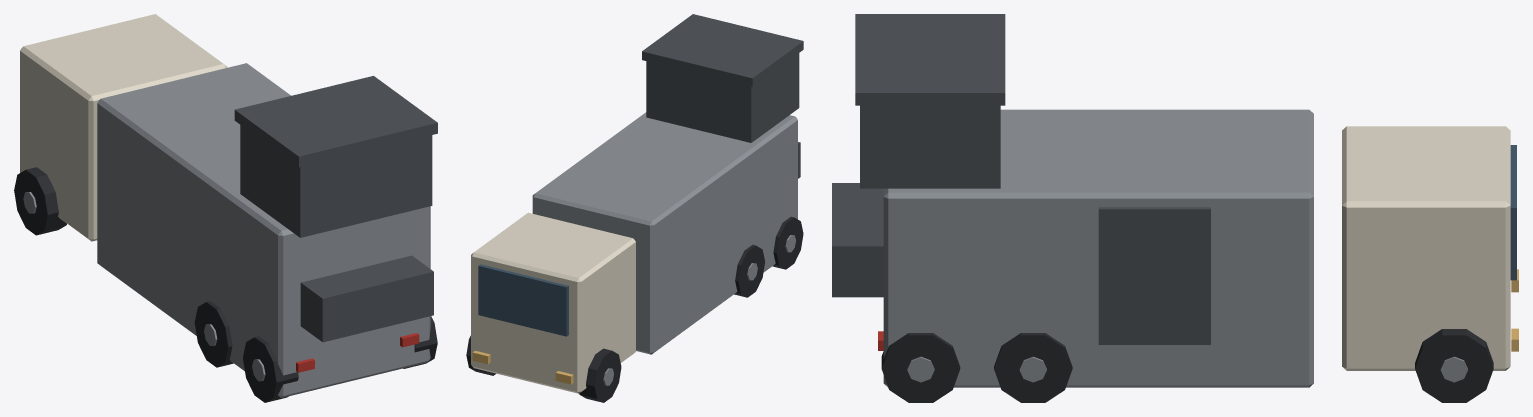
File: vehicle.truck-garbage.glb
3 renders of one model, left to right at view 1: azimuth 30°, elevation 25°; view 2: azimuth 150°, elevation 25°; view 3: azimuth 270°, elevation 25°, orthographic. The views are drawn at different scales.
Visible parts, largest first — view 1: vehicle.truck-garbage; view 2: vehicle.truck-garbage; view 3: vehicle.truck-garbage.
Boxes of the visible parts, x1,y1,x2,y2 form: vehicle.truck-garbage: [14, 14, 437, 402]; vehicle.truck-garbage: [466, 14, 803, 402]; vehicle.truck-garbage: [832, 14, 1518, 402].
Size of the model in its own units: 2.37 by 3.58 by 7.34.
